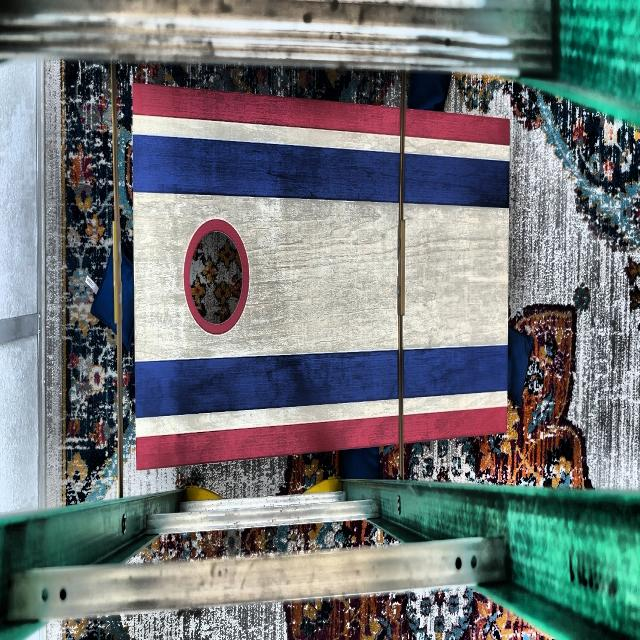blue-bean-bag: (90, 247, 133, 350), (508, 324, 534, 409), (407, 70, 451, 111), (341, 448, 382, 481)
board: (137, 118, 506, 430)
hole: (183, 218, 250, 334)
